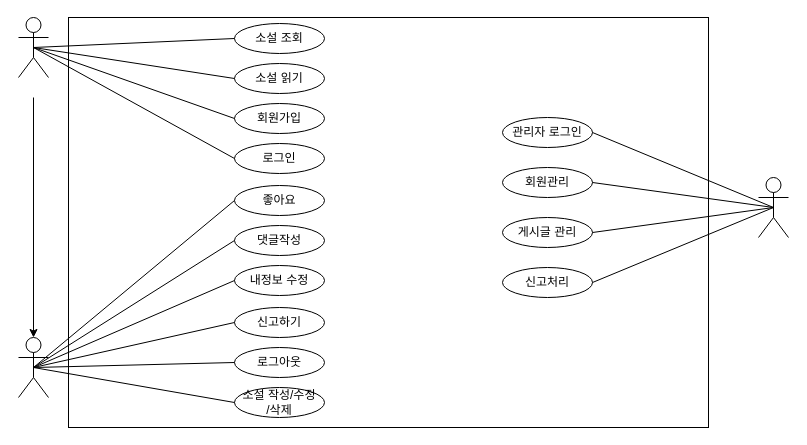
The diagram is 807 pixels wide and 445 high, and some of its shapes have lost their labels. The shapes that lost their labels are listed below. From the top down, each one's centre as x and y in pixels, then its label:
At pixel 33 47: "비회원".
At pixel 773 207: "관리자".
At pixel 33 367: "회원".
